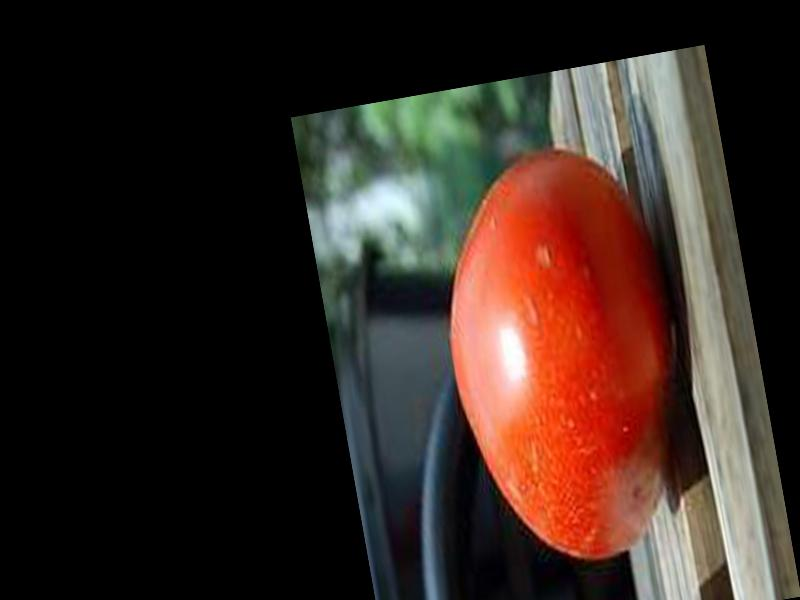Tomato: (418, 133, 704, 577)
